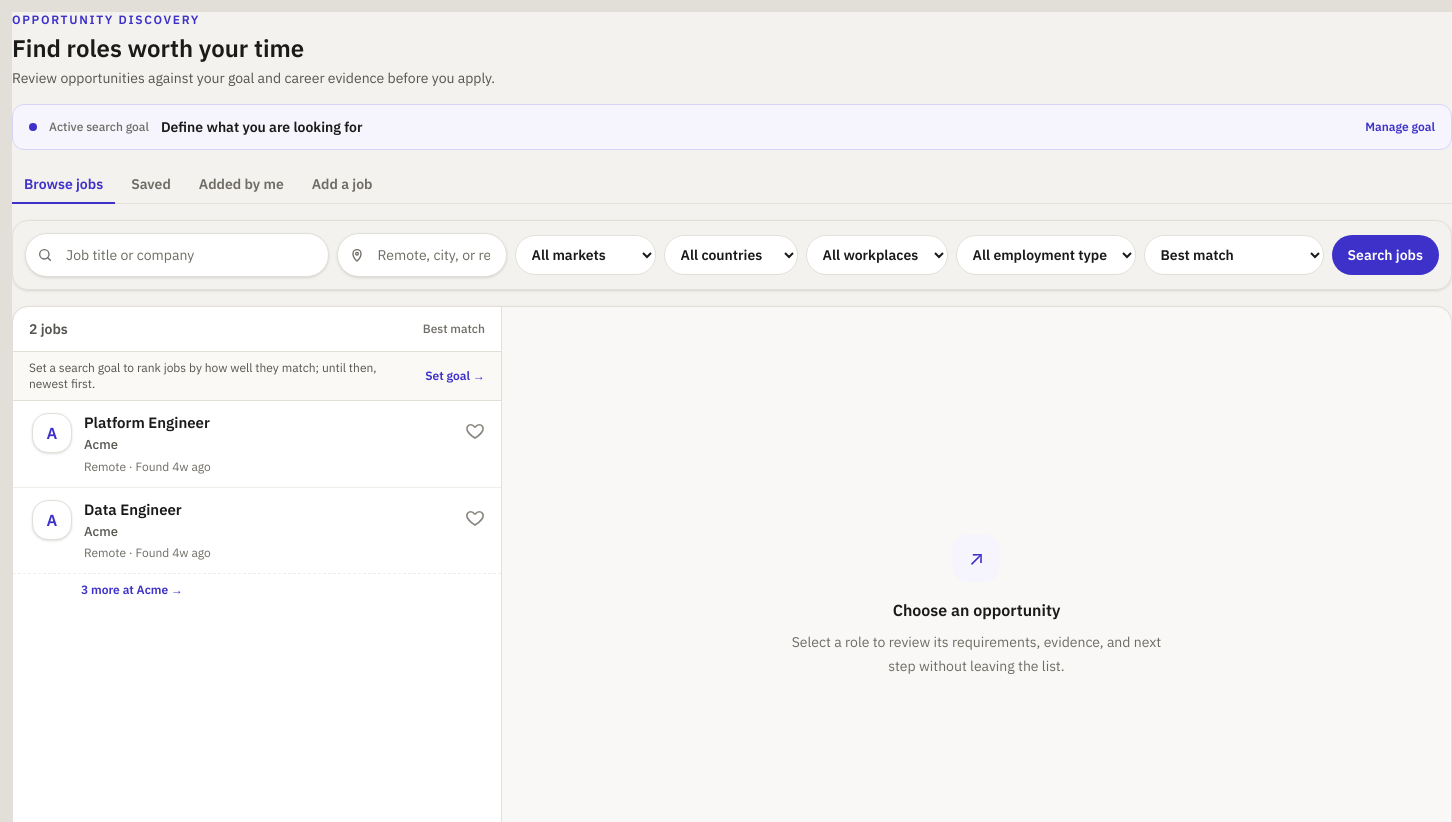
DiscoverView › ranks by best match by default and links to the rest of a company
Check: the text "Platform Engineer" is shown, box x1=84 y1=413 x2=210 y2=432
Click the button "3 more at Acme →" at (125, 590), box x1=13 y1=573 x2=501 y2=606
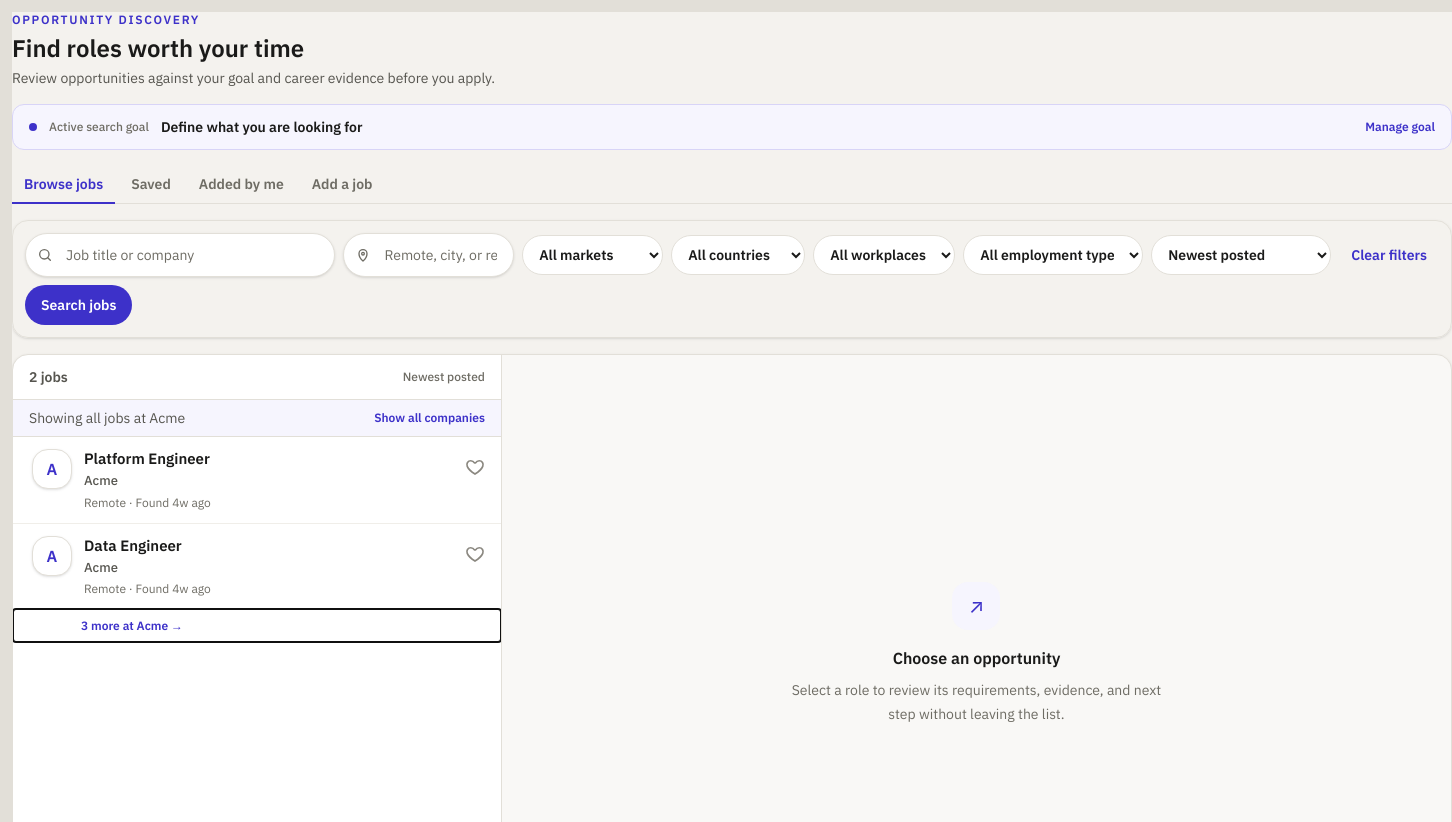
Check: the text "Showing all jobs at Acme" is shown, box x1=29 y1=408 x2=185 y2=428
